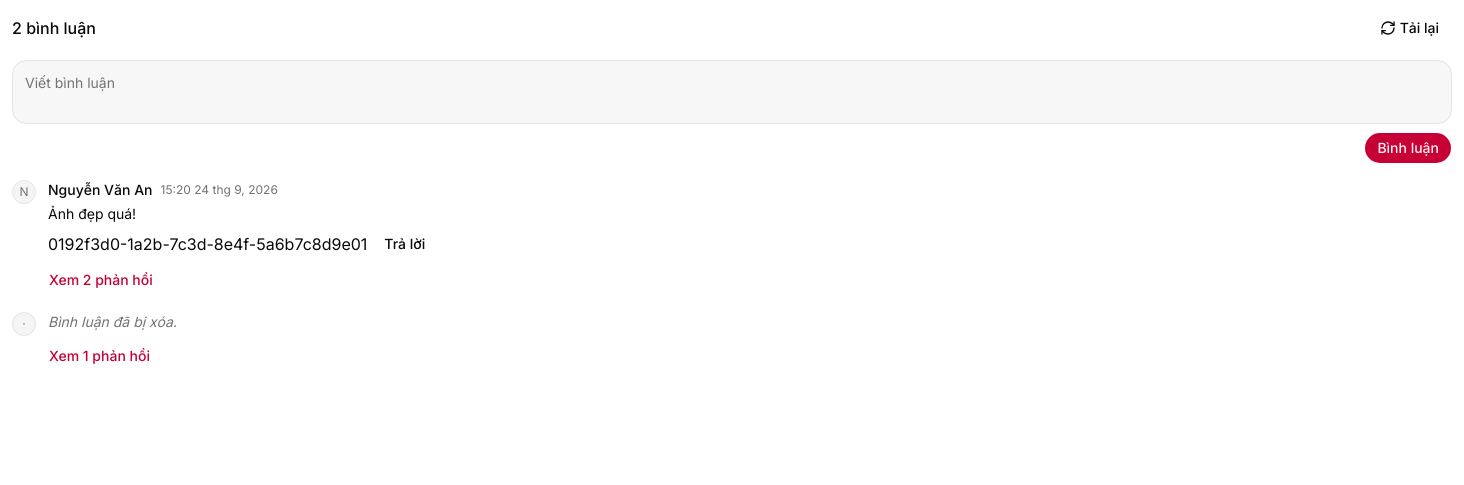
Test: CommentThread › viết bình luận: chèn vào CUỐI danh sách, số bình luận tăng tại chỗ; rỗng thì chặn ở client với câu server
Expected: the number of list items with test id "comment" is 2, [12,180,438,296]; [12,312,177,372]
Click the button "Bình luận": point(1408, 148) [1364,132,1452,164]
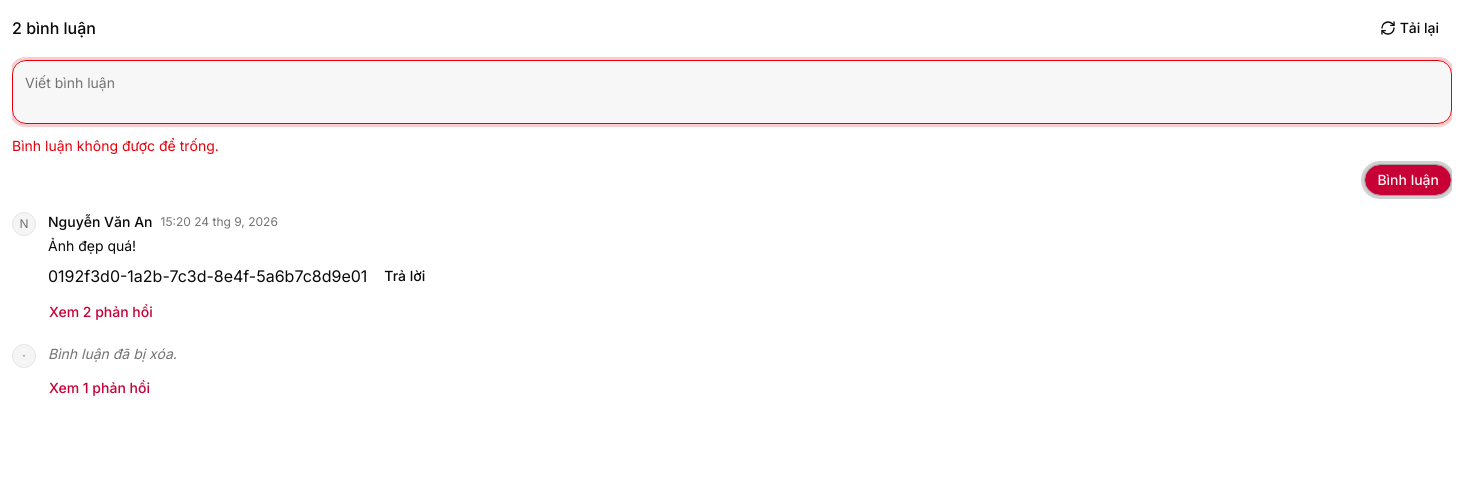
Now the text "Bình luận không được để trống." is shown, box [12,137,219,154]
In the text box: point(732, 92) [12,60,1452,124], type "Bình luận mới"
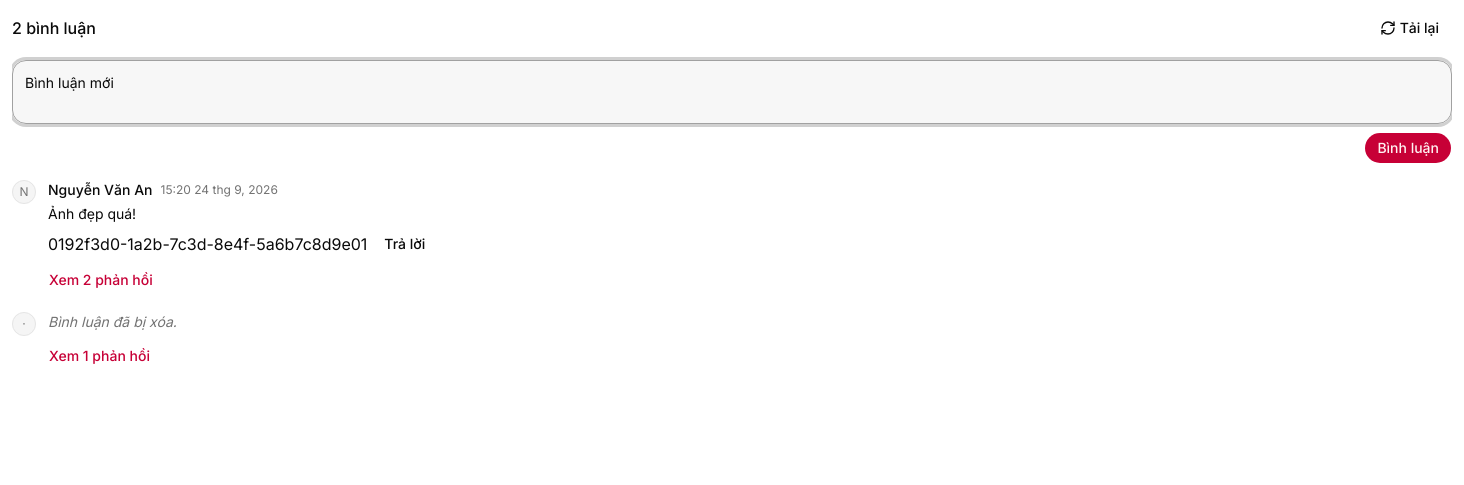
Click the button "Bình luận": point(1408, 148) [1364,132,1452,164]
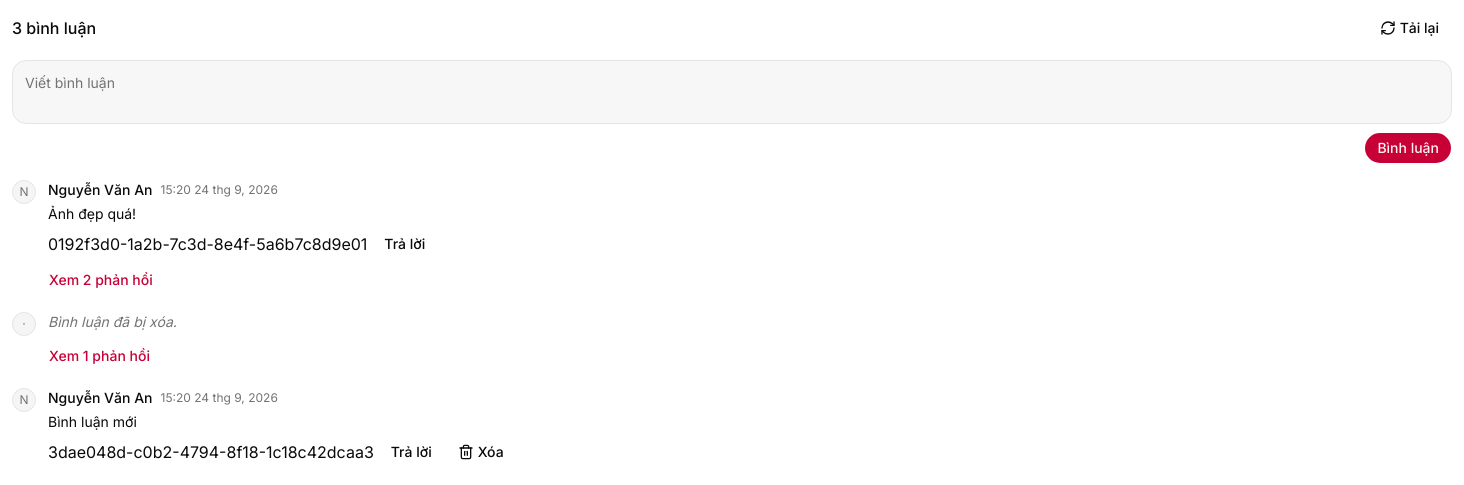
Now the number of list items with test id "comment" is 3, box [12,180,438,296]; [12,312,177,372]; [12,388,517,468]
Now the text "Bình luận mới" is shown, box [48,413,137,430]
Now the heading with test id "comment-total" reads "3 bình luận", box [12,16,96,40]
